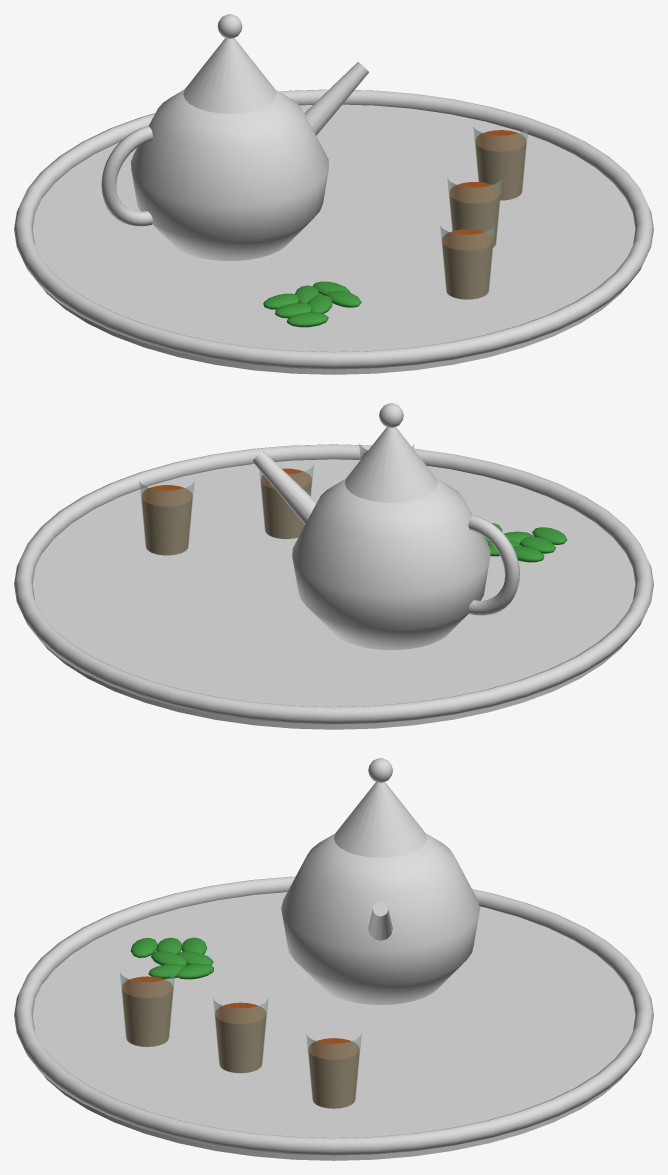
The model's file is tea.glb.
3 views of the same model, one above another, from view 1: azimuth 30°, elevation 25°; view 2: azimuth 150°, elevation 25°; view 3: azimuth 270°, elevation 25° (orthographic).
Parts seen in each view (by area): view 1: tray, teapot, glass, mint; view 2: tray, teapot, glass, mint; view 3: tray, teapot, glass, mint.
Boxes of the visible parts, x1=… form: tray: x1=14, y1=89, x2=653, y2=374; teapot: x1=101, y1=14, x2=368, y2=260; glass: x1=440, y1=126, x2=528, y2=299; mint: x1=263, y1=281, x2=361, y2=327; tray: x1=14, y1=444, x2=653, y2=729; teapot: x1=252, y1=403, x2=519, y2=650; glass: x1=139, y1=443, x2=414, y2=555; mint: x1=484, y1=523, x2=567, y2=562; tray: x1=14, y1=876, x2=653, y2=1160; teapot: x1=281, y1=758, x2=479, y2=1004; glass: x1=119, y1=971, x2=361, y2=1108; mint: x1=130, y1=937, x2=213, y2=979.
Bounding box in the file's own units: 2.06 × 0.82 × 2.06.
